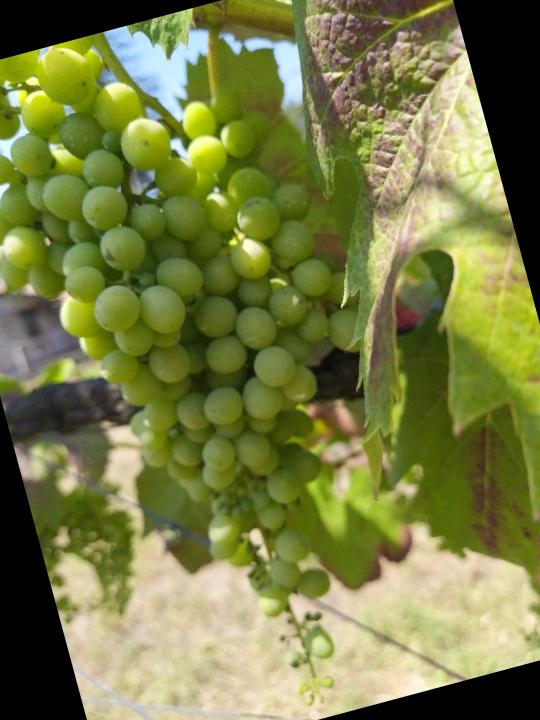grape: (0, 0, 462, 720)
